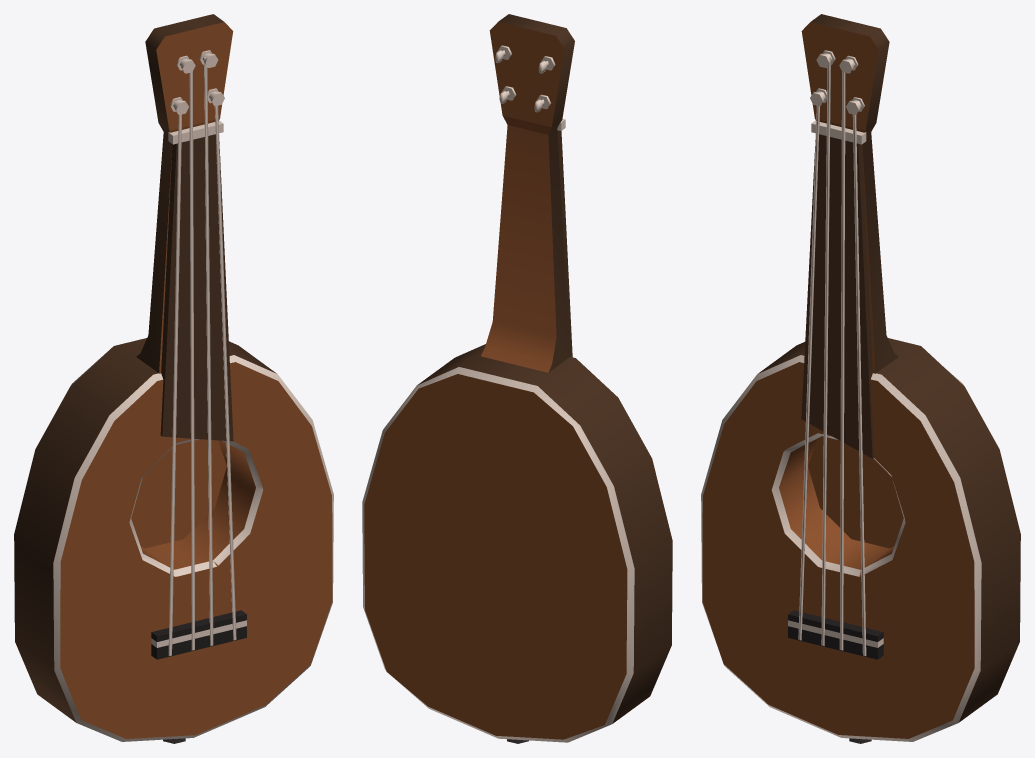
The model's file is 29_prop_Ukulele.FBX.
3 renders of one model, left to right at view 1: azimuth 30°, elevation 25°; view 2: azimuth 150°, elevation 25°; view 3: azimuth 330°, elevation 25°, orthographic. The views are drawn at different scales.
Visible parts, largest first — view 1: prop_Ukulele; view 2: prop_Ukulele; view 3: prop_Ukulele.
Part boxes in pixels (left/top/right/bottom): prop_Ukulele: left=14, top=14, right=333, bottom=743; prop_Ukulele: left=362, top=14, right=672, bottom=743; prop_Ukulele: left=701, top=14, right=1020, bottom=743.
Size of the model in its own units: 20.69 by 51.04 by 6.53.
